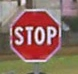stop: (9, 6, 60, 64)
